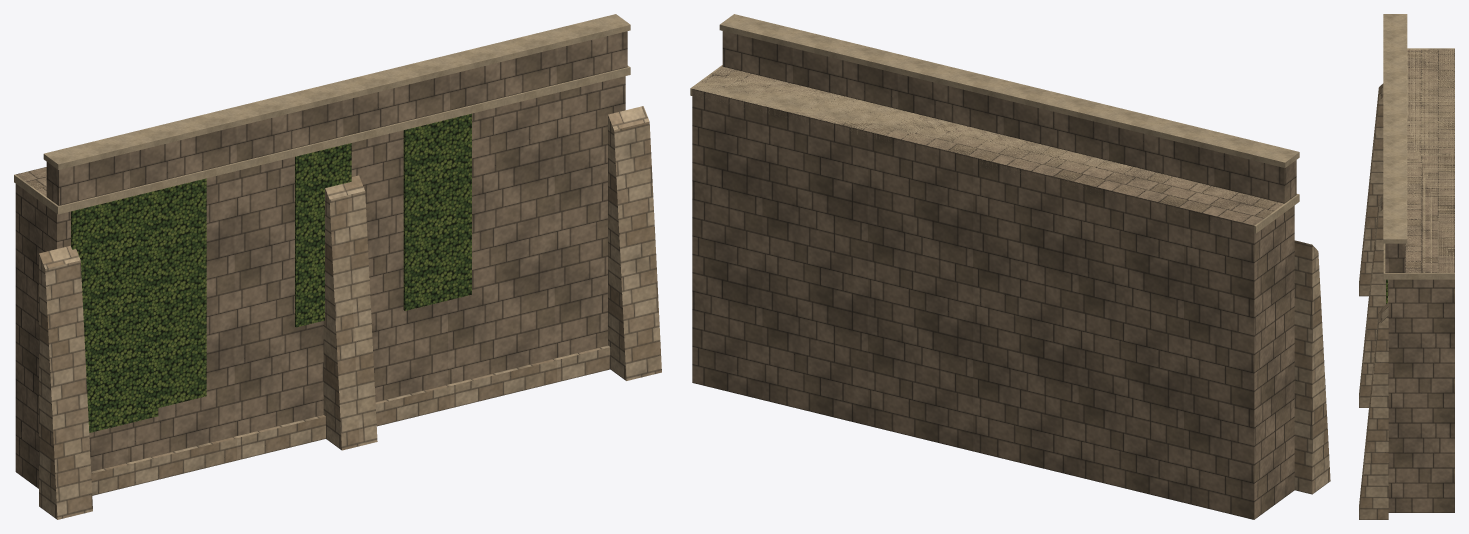
The model's file is retaining_wall.gltf.
3 views of the same model, side by side, from view 1: azimuth 30°, elevation 25°; view 2: azimuth 150°, elevation 25°; view 3: azimuth 270°, elevation 25° (orthographic). The views are drawn at different scales.
Visible parts, largest first — view 1: retaining_wall_mesh; view 2: retaining_wall_mesh; view 3: retaining_wall_mesh.
Boxes of the visible parts, x1,y1,x2,y2 form: retaining_wall_mesh: (14,14,661,519); retaining_wall_mesh: (690,14,1330,519); retaining_wall_mesh: (1359,14,1454,519).
Size of what is drawn, in the model's own units: 17 by 9.15 by 2.9.
4 materials, 4 textured.
